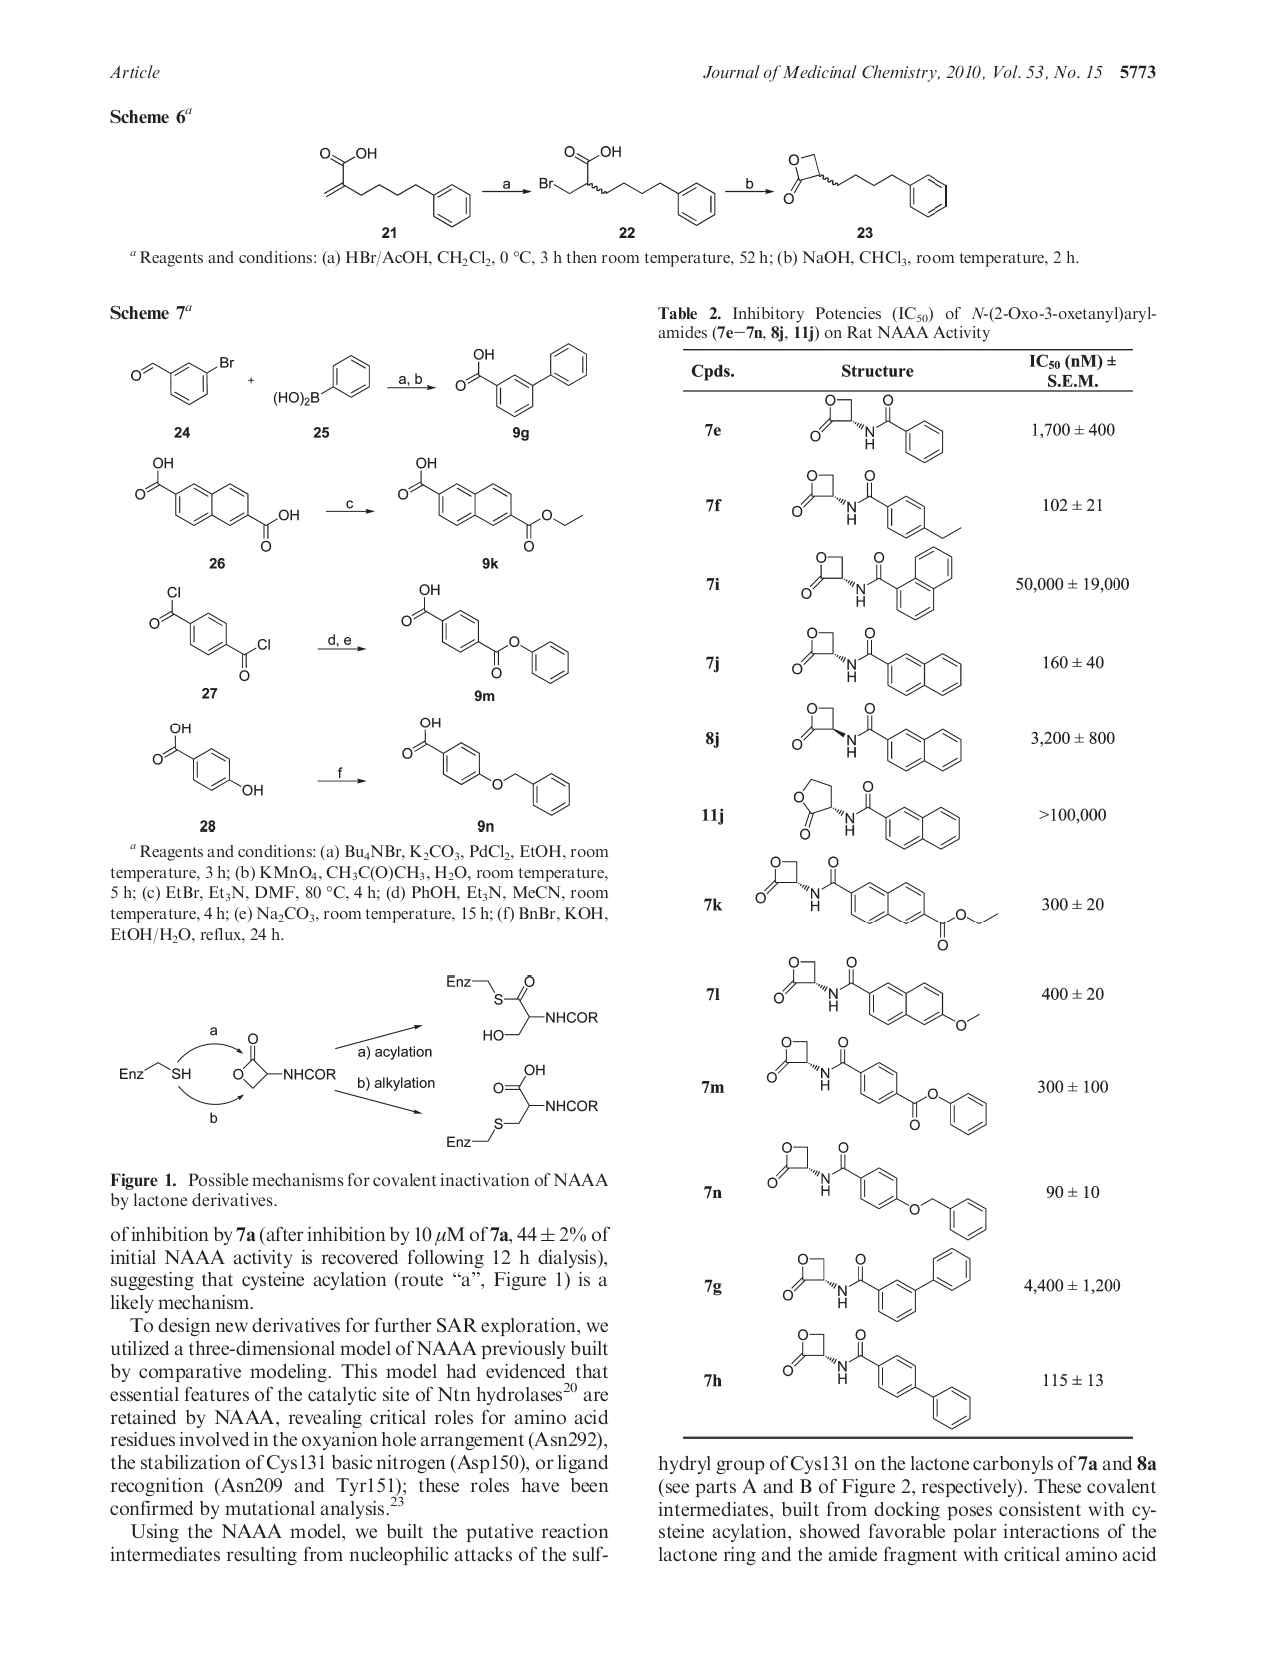exist_molecular: (755, 855, 999, 952), (766, 1035, 988, 1137), (767, 1141, 987, 1241), (783, 1329, 972, 1431), (398, 457, 585, 555), (402, 715, 570, 818), (402, 582, 570, 684), (771, 954, 981, 1033), (136, 457, 302, 552), (539, 144, 717, 226), (783, 1246, 973, 1323), (316, 144, 473, 230), (444, 1063, 601, 1149), (148, 584, 273, 684), (794, 775, 960, 850), (791, 469, 963, 541), (793, 701, 963, 773), (801, 543, 953, 621), (793, 626, 964, 696), (781, 150, 948, 218), (442, 973, 600, 1043), (453, 340, 590, 418), (809, 394, 944, 463), (152, 722, 266, 797), (234, 1031, 340, 1092), (130, 354, 235, 406), (273, 355, 372, 410), (118, 1060, 193, 1081)
